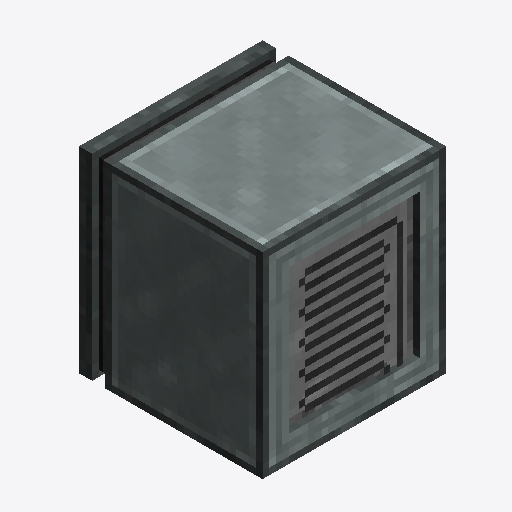
Isometric view (azimuth 45°, elevation 35.3°) of a Minecraft model made of 12 cuboids, textured from the same repository.
Parts seen in each view (by area): Static_Right, Static_Top, Static_Back, Static_Bottom, Static_Left, Door_Main, Static_Heatsink, Static_SealRight, Static_SealTop.
Boxes of the visible parts, x1=… form: Static_Right: x1=105, y1=146, x2=288, y2=448; Static_Top: x1=132, y1=71, x2=419, y2=266; Static_Back: x1=289, y1=196, x2=412, y2=425; Static_Bottom: x1=105, y1=343, x2=445, y2=478; Static_Left: x1=263, y1=56, x2=445, y2=357; Door_Main: x1=79, y1=40, x2=275, y2=380; Static_Heatsink: x1=299, y1=216, x2=402, y2=412; Static_SealRight: x1=99, y1=150, x2=117, y2=372; Static_SealTop: x1=113, y1=67, x2=261, y2=153.
Size of the model in its own units: 14 by 15 by 15.